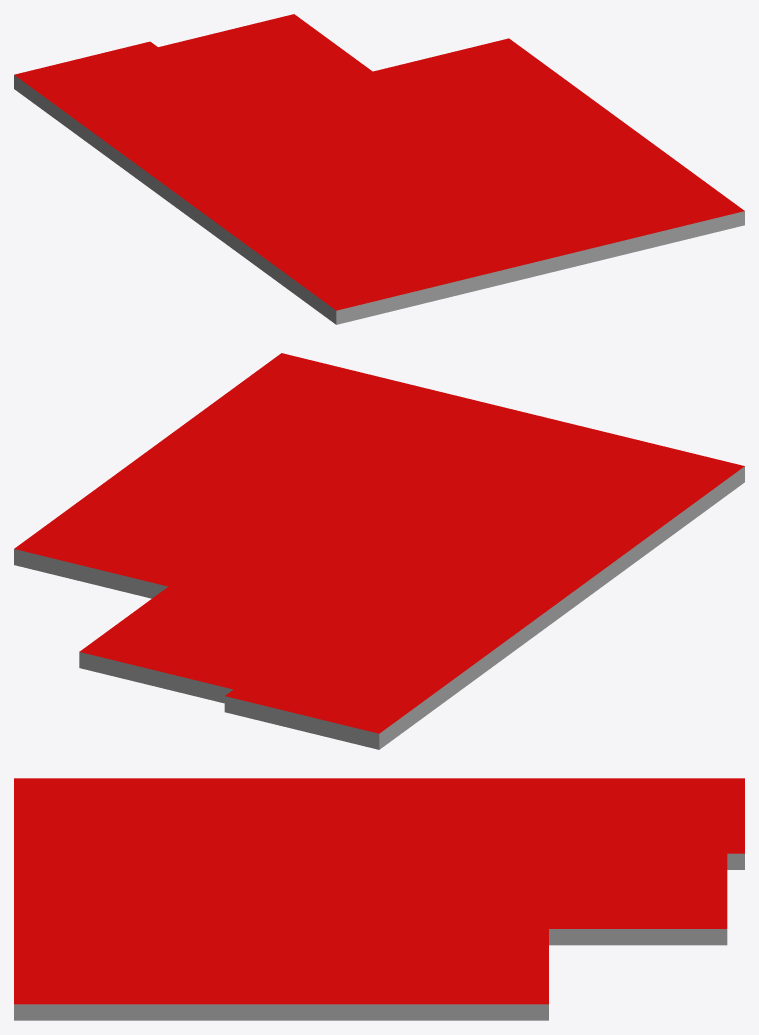
Rendered from BathroomCeiling.fbx.
3 renders of one model, top to bottom at view 1: azimuth 30°, elevation 25°; view 2: azimuth 150°, elevation 25°; view 3: azimuth 270°, elevation 25°, orthographic. The views are drawn at different scales.
Visible parts, largest first — view 1: pCube74; view 2: pCube74; view 3: pCube74.
Part boxes in pixels (x1=…): pCube74: x1=14, y1=14, x2=744, y2=324; pCube74: x1=14, y1=353, x2=744, y2=749; pCube74: x1=14, y1=778, x2=744, y2=1020.
Size of the model in its own units: 300 by 10 by 410.
